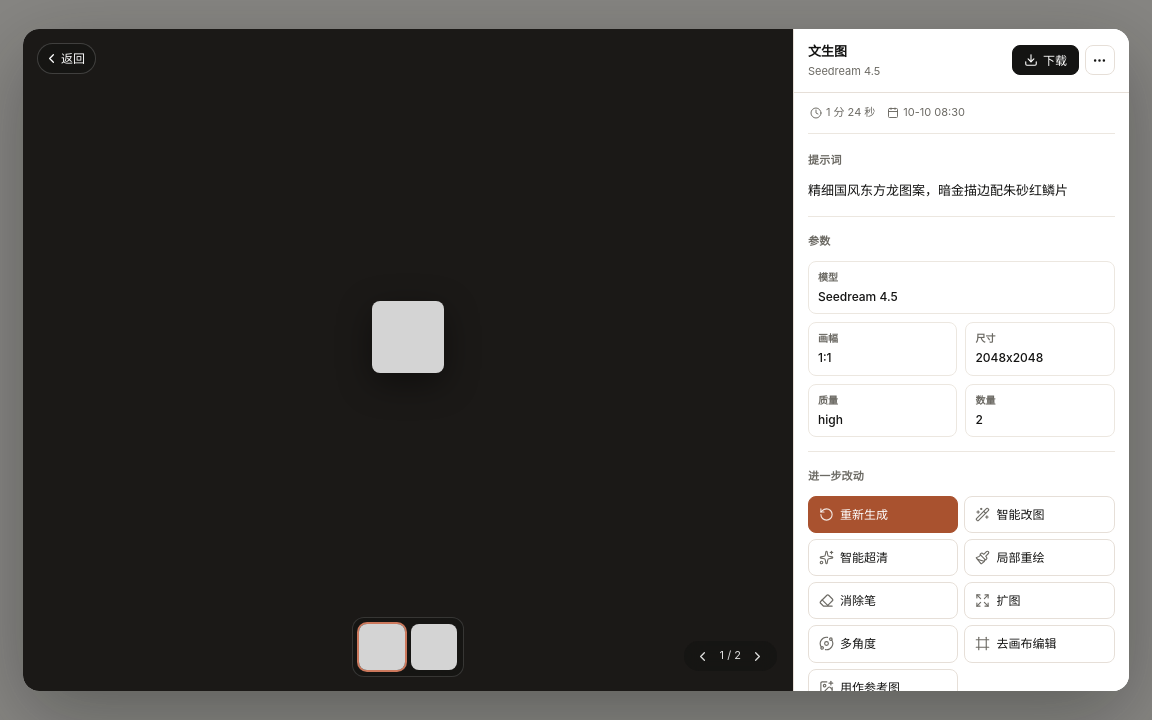
AssetDetailPane › lists copy, reference, library import and delete in the more menu
The width and height of the screenshot is (1152, 720).
Click the button named "更多操作": (1100, 60) [1085,46,1115,76]
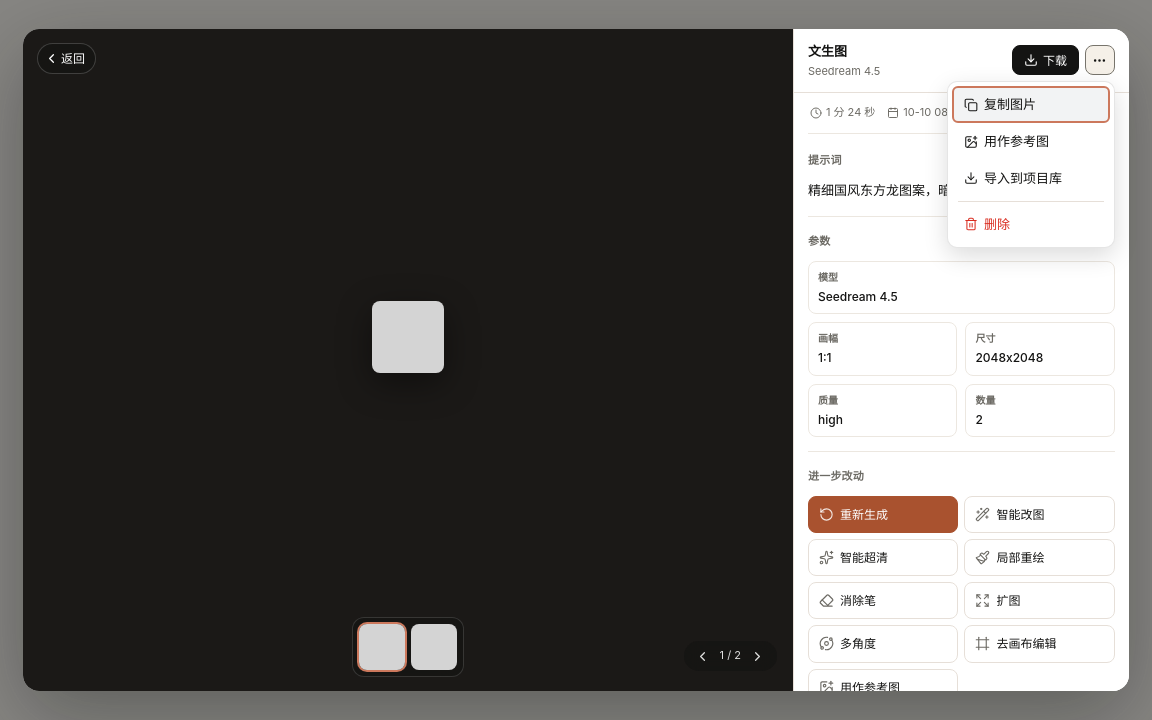
Expected: the button "复制图片" is shown, [952,86,1110,123]
Expected: the 1st button "用作参考图" is shown, [952,123,1110,160]
Expected: the button "导入到项目库" is shown, [952,160,1110,197]
